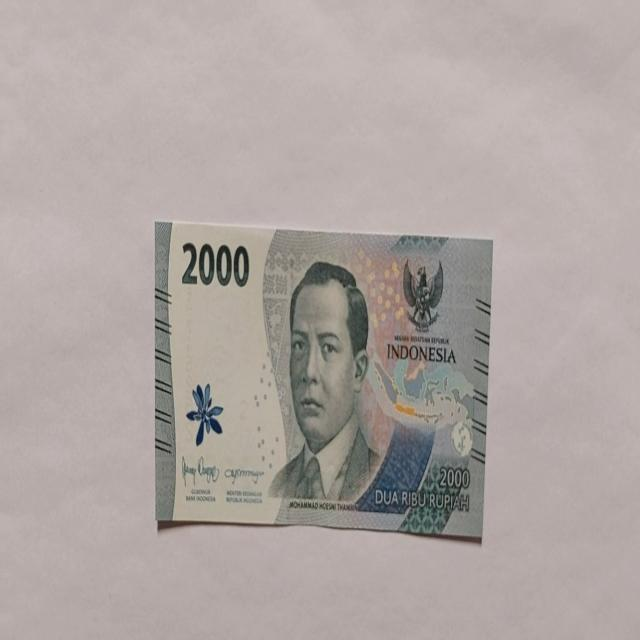dua ribu rupiah: (154, 220, 493, 538), (267, 260, 383, 510)
